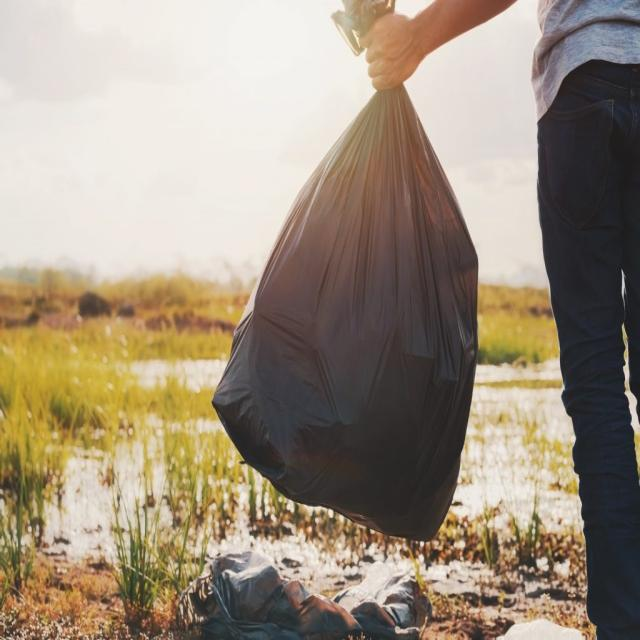sampah-detection: (210, 0, 480, 548)
